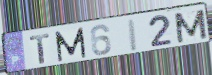2: (147, 14, 175, 49)
6: (89, 23, 112, 57)
I: (127, 17, 140, 53)
M: (172, 8, 209, 45), (53, 26, 88, 63)
T: (28, 32, 51, 65)
